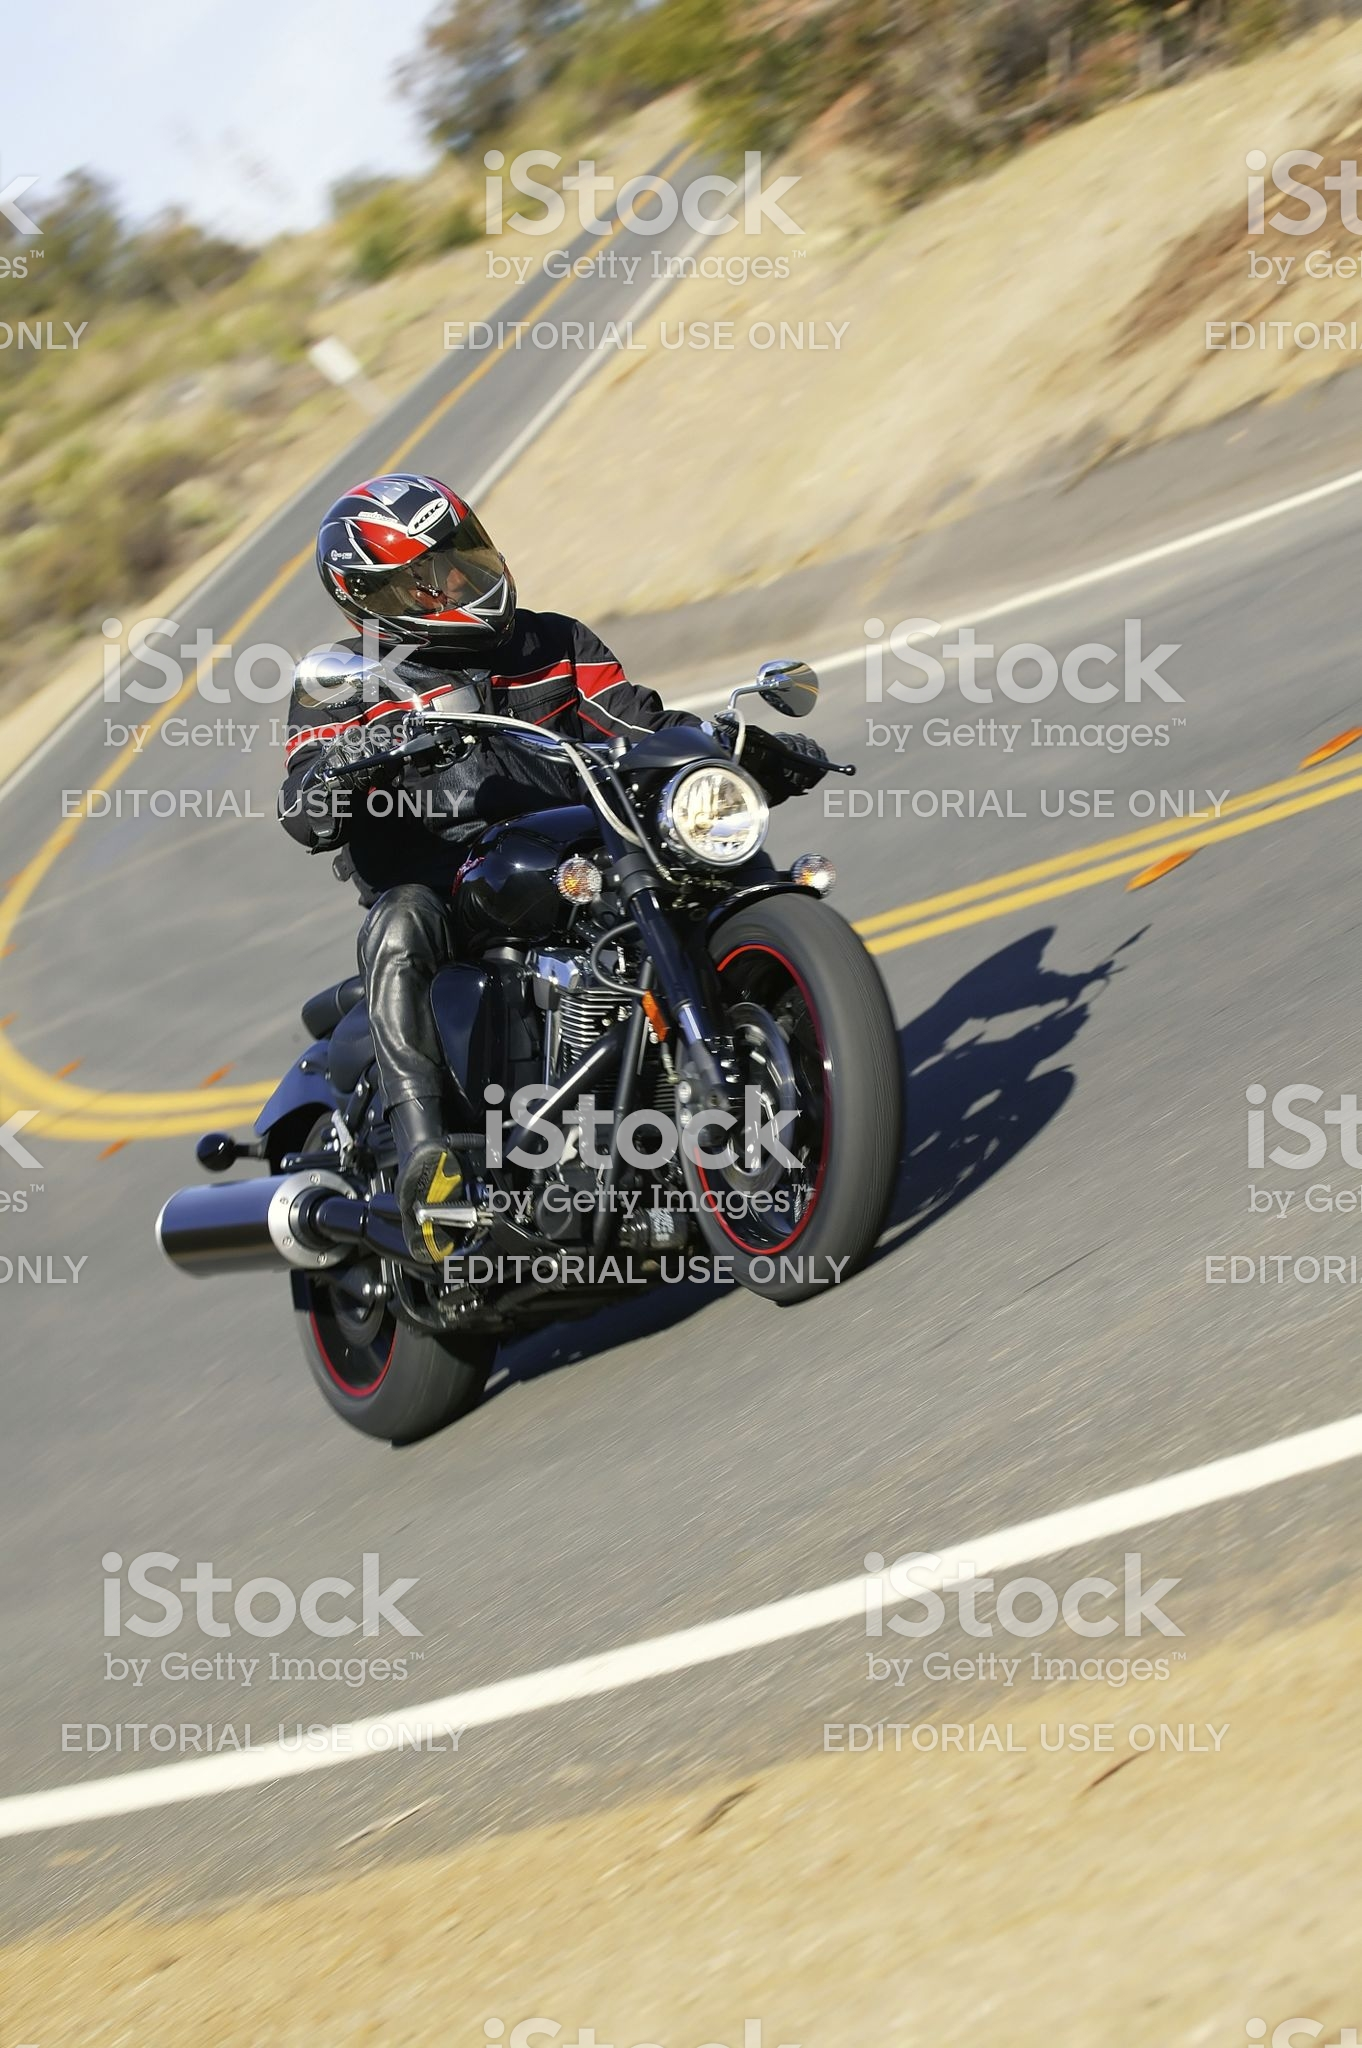helmet: (299, 463, 543, 659)
